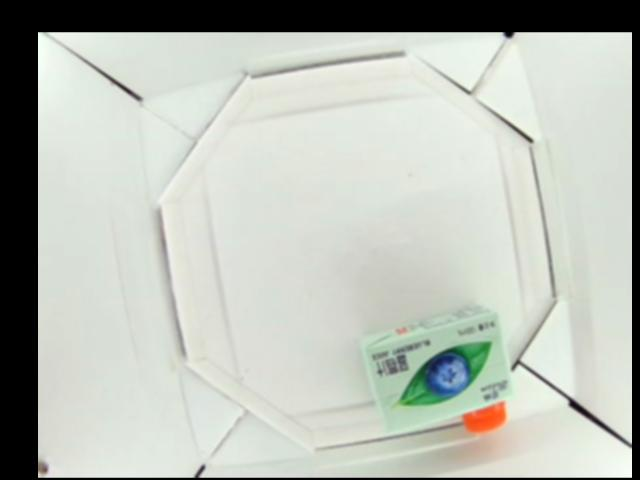Bottle: (358, 304, 515, 435)
